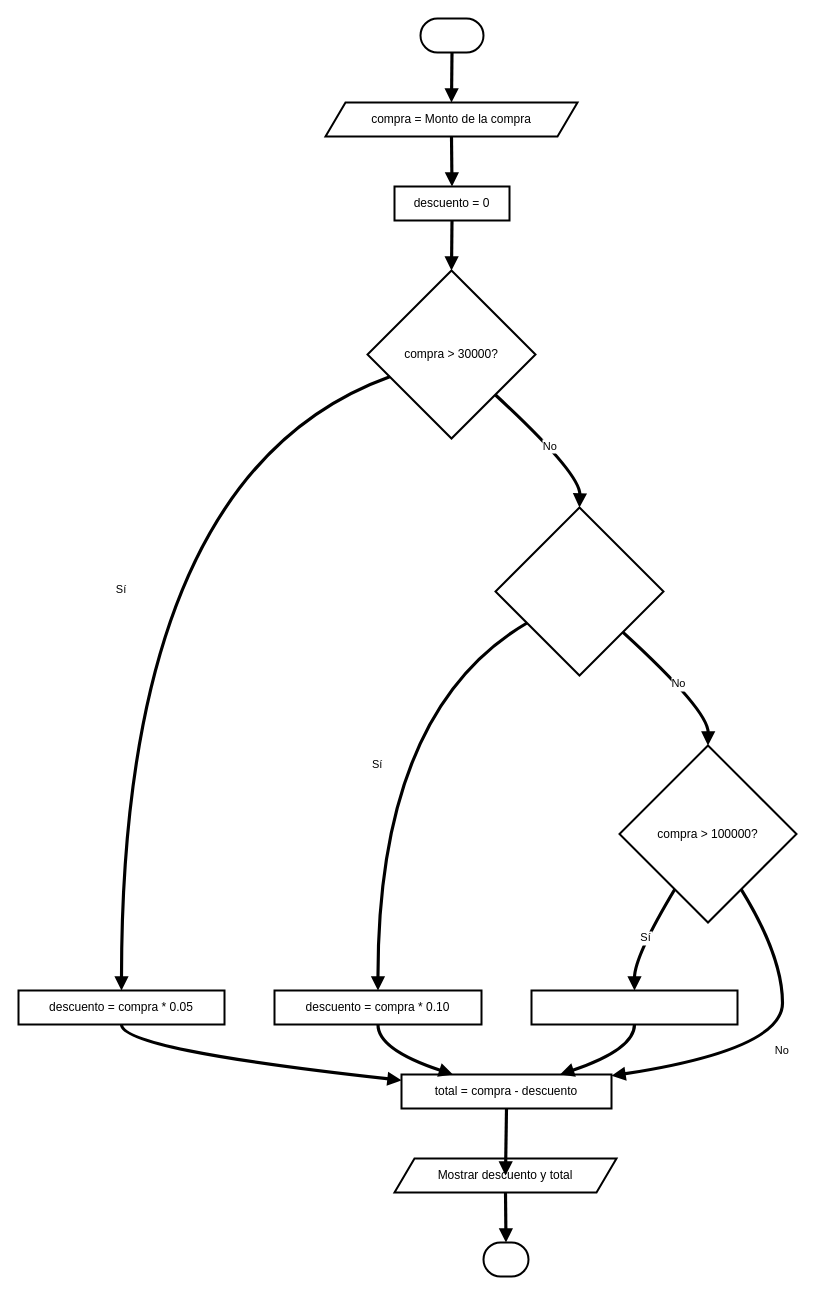
The diagram is 814 pixels wide and 1294 high, and some of its shapes have lost their labels. Each missing label, with the box of its shape:
compra > 60000?: (494, 506, 664, 676)
descuento = compra * 0.15: (530, 989, 738, 1025)
Fin: (482, 1241, 529, 1277)
Inicio: (419, 17, 484, 53)
